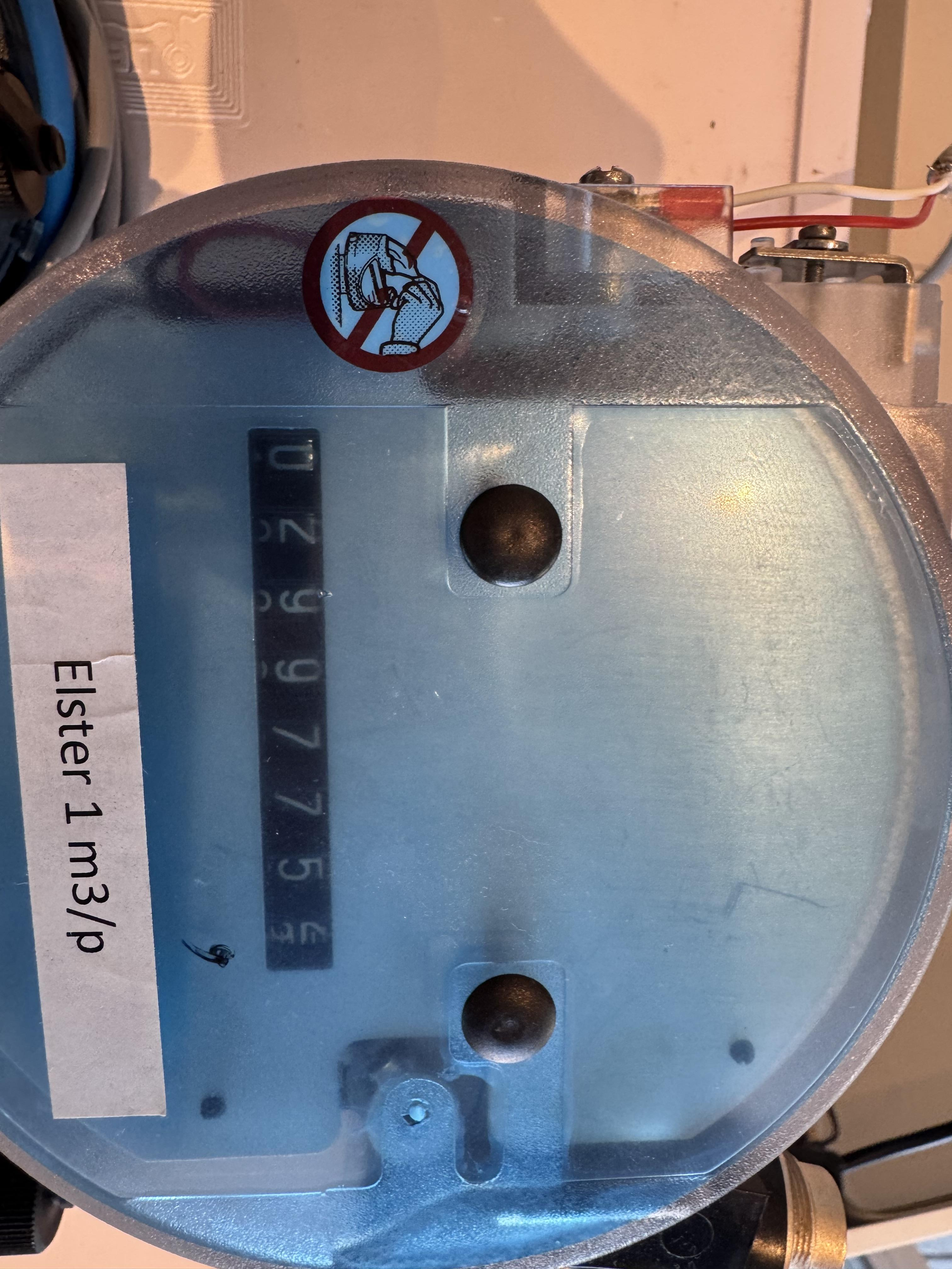analog_dial: (189, 423, 340, 979)
